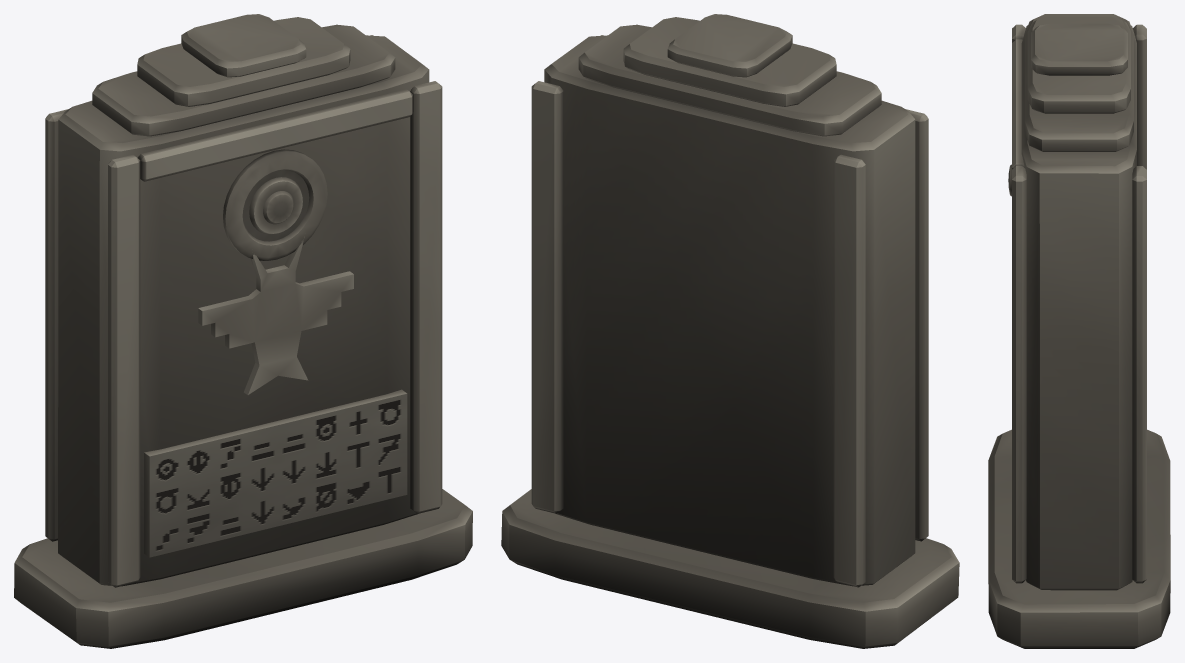
The model's file is stone_stele.fbx.
3 renders of one model, left to right at view 1: azimuth 30°, elevation 25°; view 2: azimuth 150°, elevation 25°; view 3: azimuth 270°, elevation 25°, orthographic. The views are drawn at different scales.
Visible parts, largest first — view 1: stone_stele_Body; view 2: stone_stele_Body; view 3: stone_stele_Body.
Boxes of the visible parts, x1,y1,x2,y2 form: stone_stele_Body: [14, 14, 472, 648]; stone_stele_Body: [501, 14, 959, 648]; stone_stele_Body: [988, 14, 1170, 648].
Size of the model in its own units: 0.3576 by 0.464 by 0.1484.
1 material, 1 textured.
